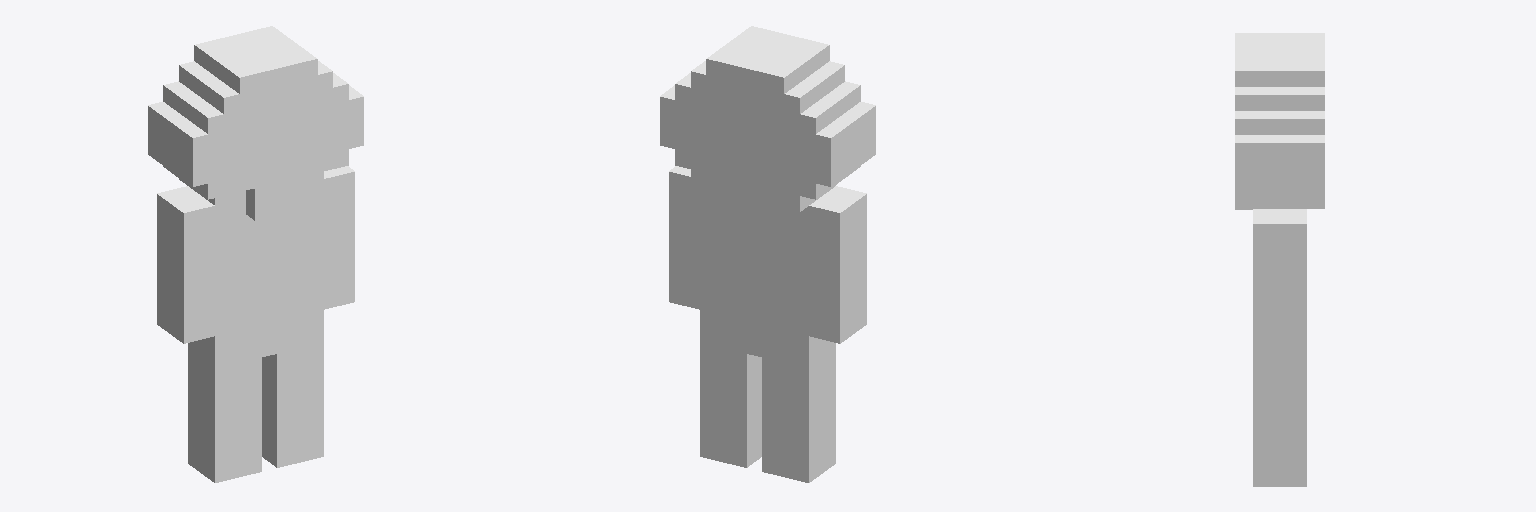
File: Brook.obj
The picture shows the model from 3 angles: view 1: azimuth 30°, elevation 25°; view 2: azimuth 150°, elevation 25°; view 3: azimuth 270°, elevation 25°; orthographic projection.
Parts seen in each view (by area): view 1: object 1; view 2: object 1; view 3: object 1.
Part boxes in pixels (left/top/right/bottom): object 1: left=148, top=26, right=363, bottom=482; object 1: left=660, top=26, right=875, bottom=482; object 1: left=1235, top=33, right=1324, bottom=486.
Size of the model in its own units: 1.1 by 2.5 by 0.5.